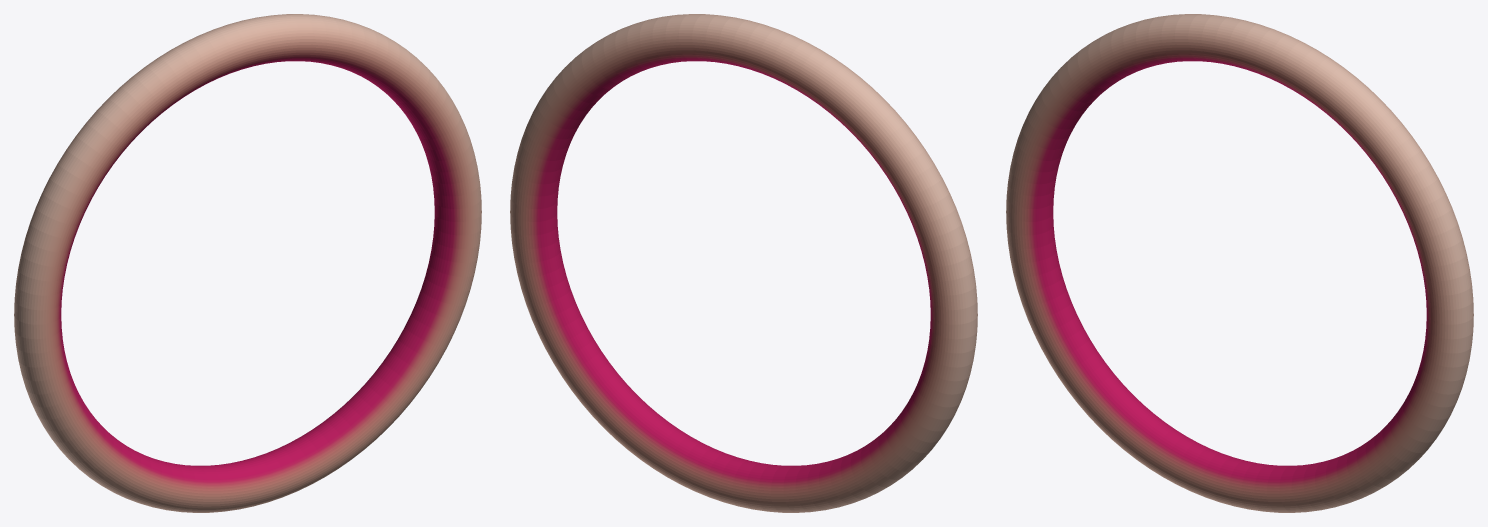
The picture shows the model from 3 angles, left to right: view 1: azimuth 30°, elevation 25°; view 2: azimuth 150°, elevation 25°; view 3: azimuth 330°, elevation 25°; orthographic projection.
Parts seen in each view (by area): view 1: world; view 2: world; view 3: world.
Boxes of the visible parts, x1,y1,x2,y2 form: world: (14, 14, 481, 512); world: (510, 14, 977, 512); world: (1006, 14, 1473, 512).
Size of the model in its own units: 25.6 by 25.6 by 2.26.
